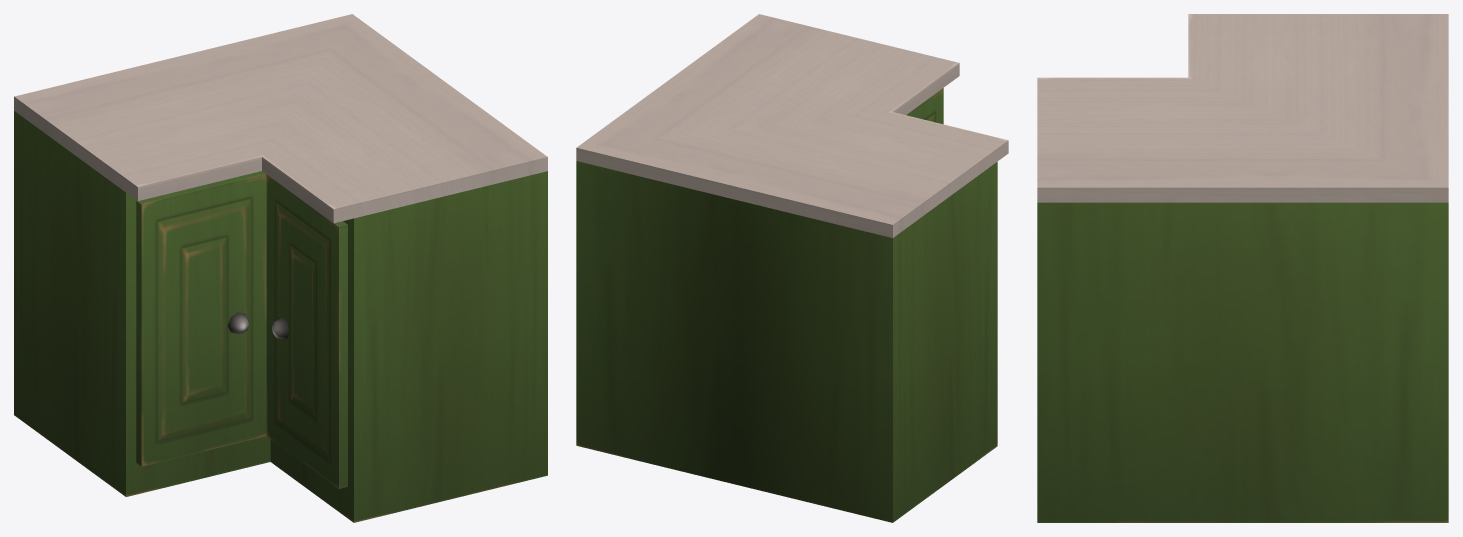
Rendered from FUR0110018.fbx.
The picture shows the model from 3 angles, left to right: view 1: azimuth 30°, elevation 25°; view 2: azimuth 150°, elevation 25°; view 3: azimuth 270°, elevation 25°; orthographic projection. The views are drawn at different scales.
Visible parts, largest first — view 1: smFUR0110018; view 2: smFUR0110018; view 3: smFUR0110018.
Part boxes in pixels (x1,y1,x2,y2): smFUR0110018: (14,14,547,522); smFUR0110018: (576,14,1008,522); smFUR0110018: (1037,14,1448,522).
Size of the model in its own units: 100 by 90 by 100.
Materials: 1 (1 with a texture image).
